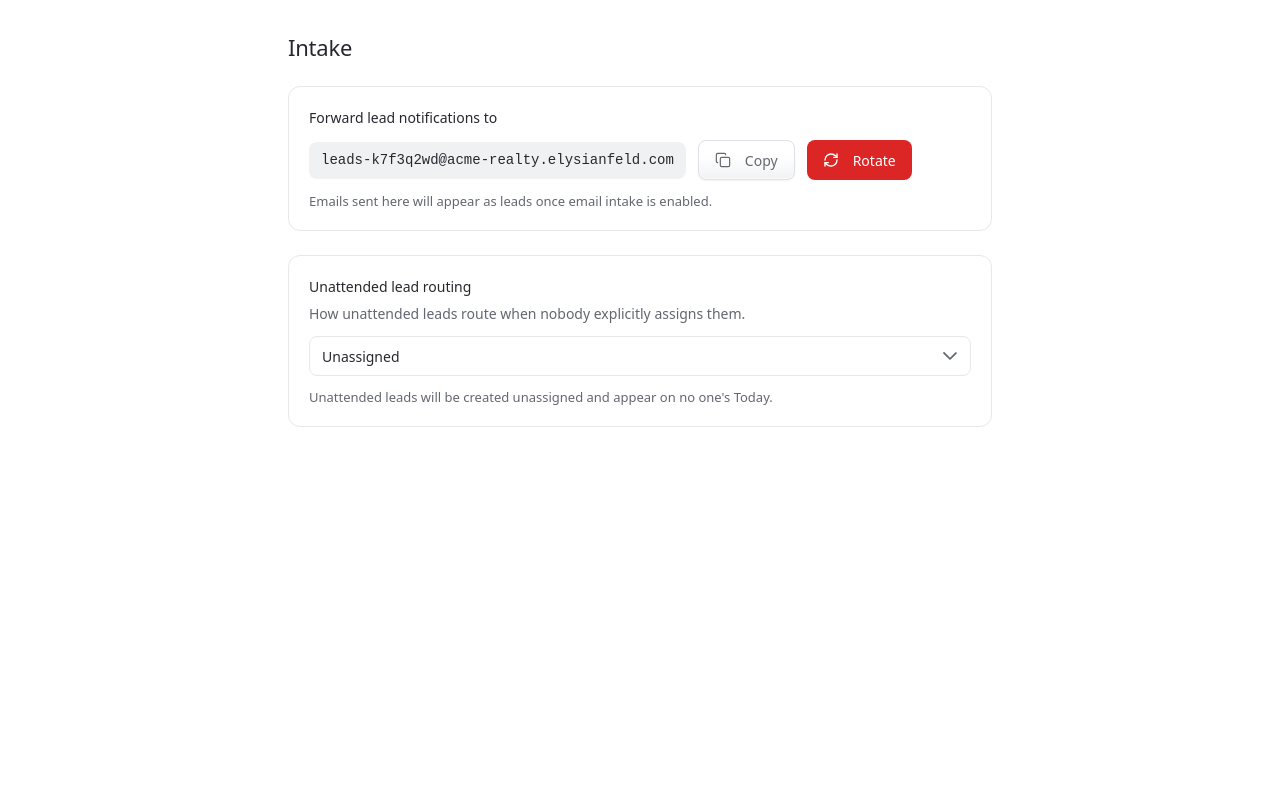
IntakeSettingsView — unattended lead routing (SLICE_008 §5, D-041) › rotates the address behind a confirm and shows the new one
Click the button with test id "rotate-address" at x=859, y=160, box [807,140,912,180]
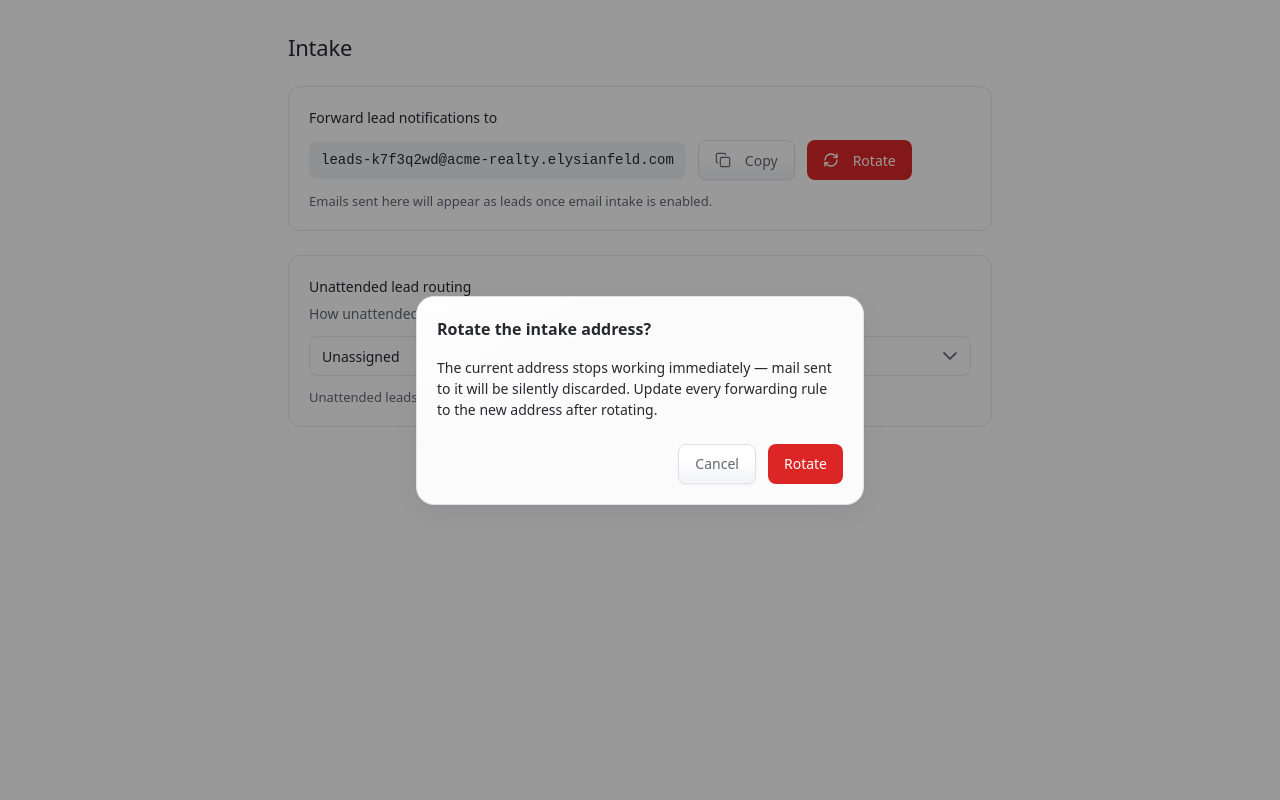
Now the text "stops working immediately" is shown, box [437,358,832,418]
Click the button "Rotate" at x=806, y=464, box [768,444,843,484]
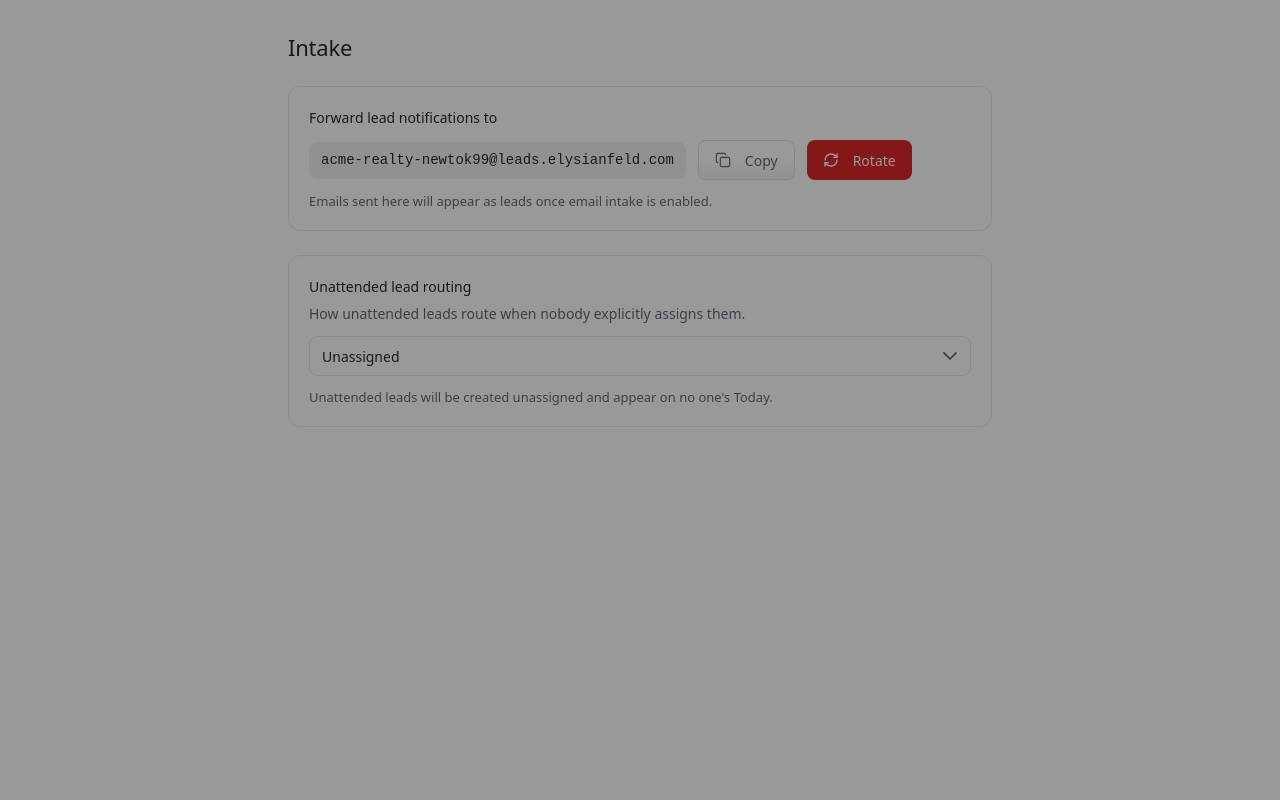
Now the text with test id "intake-address" shows "newtok99", box [321,152,674,168]
